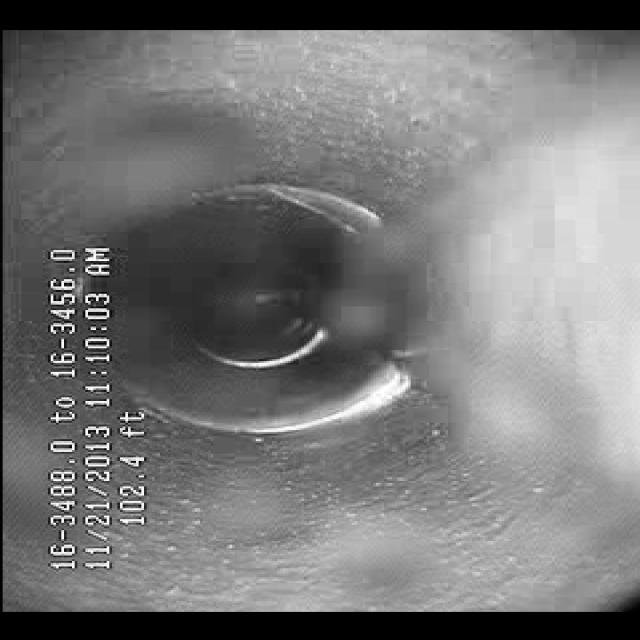Fracture: (262, 178, 366, 242)
